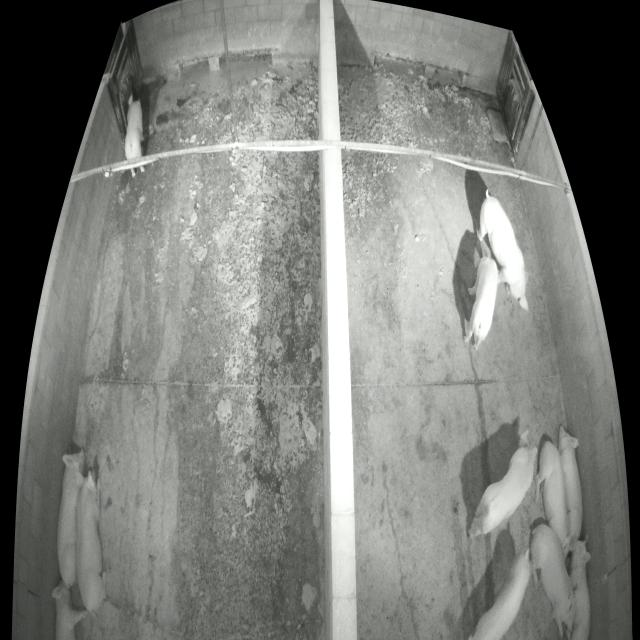pig: (468, 430, 538, 540), (477, 197, 530, 311), (529, 526, 577, 639), (468, 554, 530, 639), (75, 471, 106, 612), (56, 449, 85, 588), (534, 440, 570, 545), (464, 242, 498, 351), (563, 533, 591, 639), (559, 424, 584, 539), (51, 582, 87, 639), (124, 93, 145, 178)
